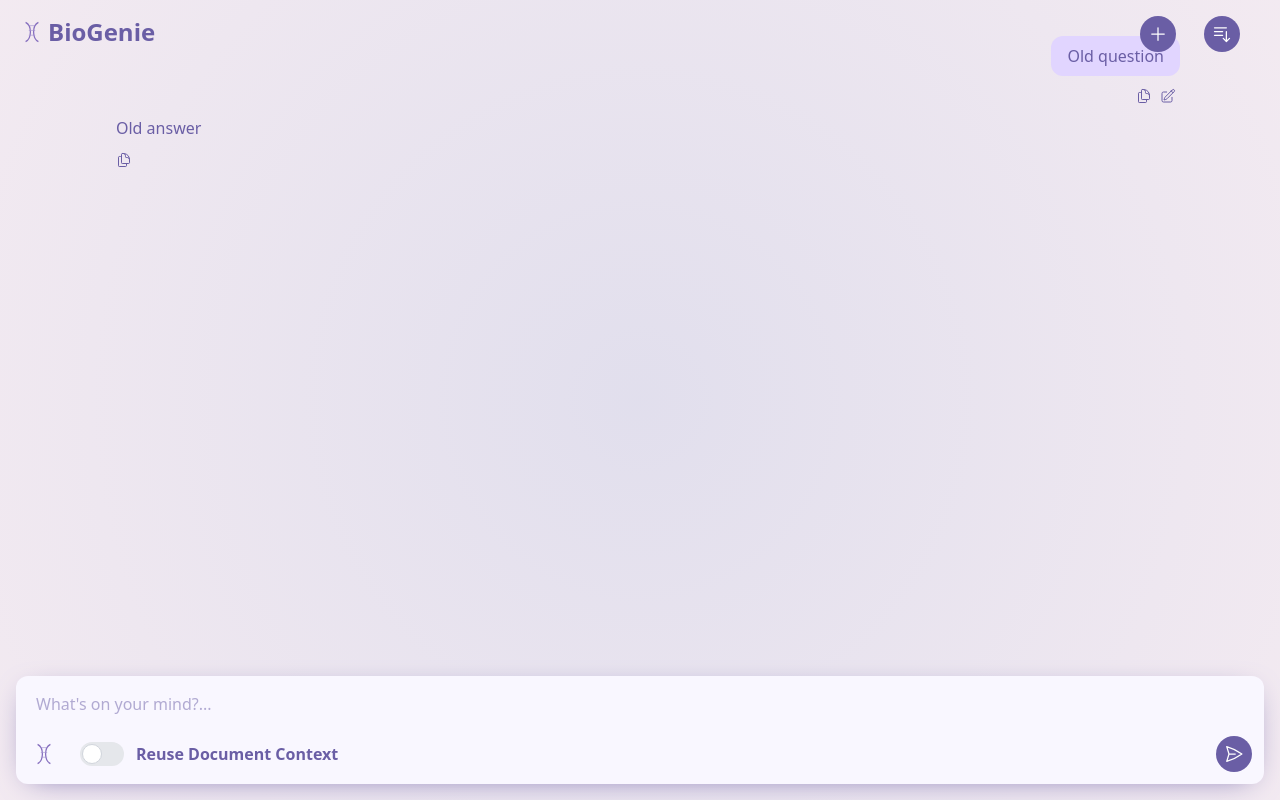
Chat Page › clears state and stops loading when New Chat is clicked
Type "Hello" into the text box with test id "input" at (640, 712), box [28,692,1252,732]
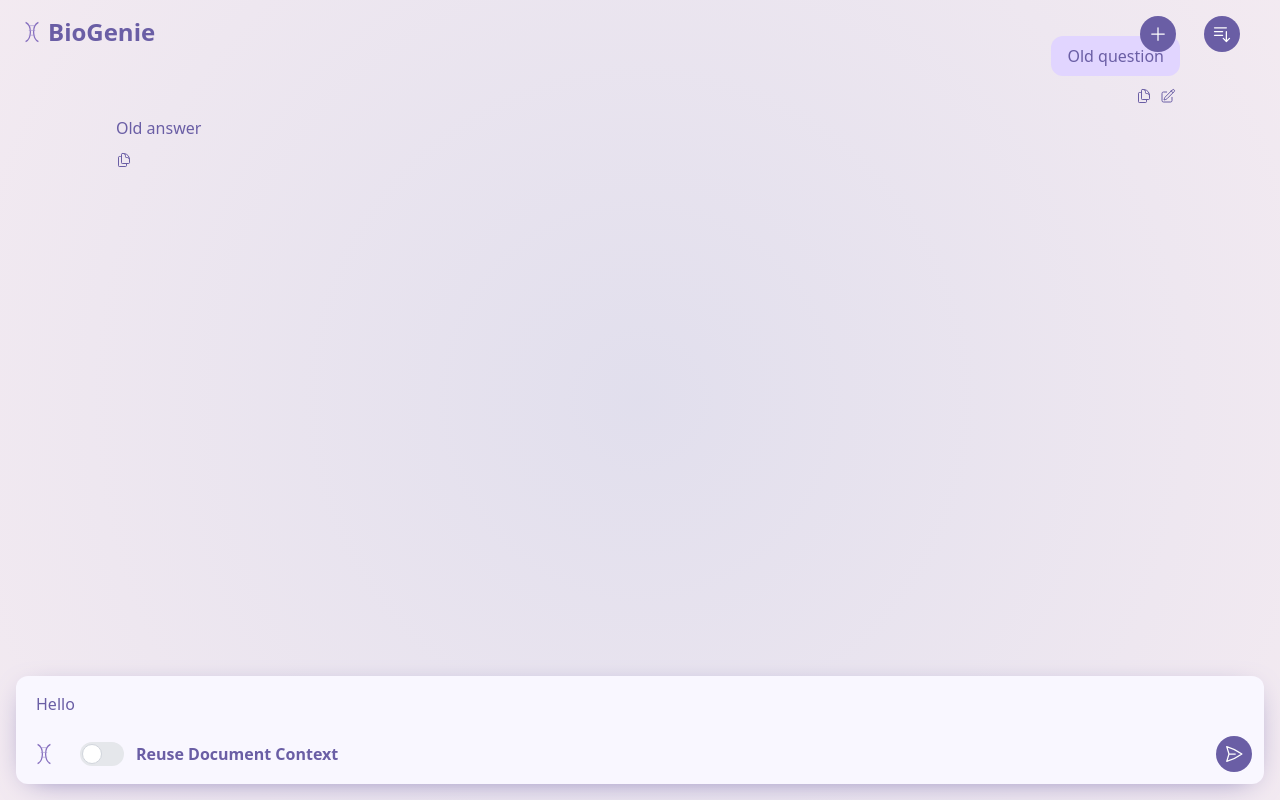
Click the button with test id "submitButton" at (1234, 754), box [1216,736,1252,772]
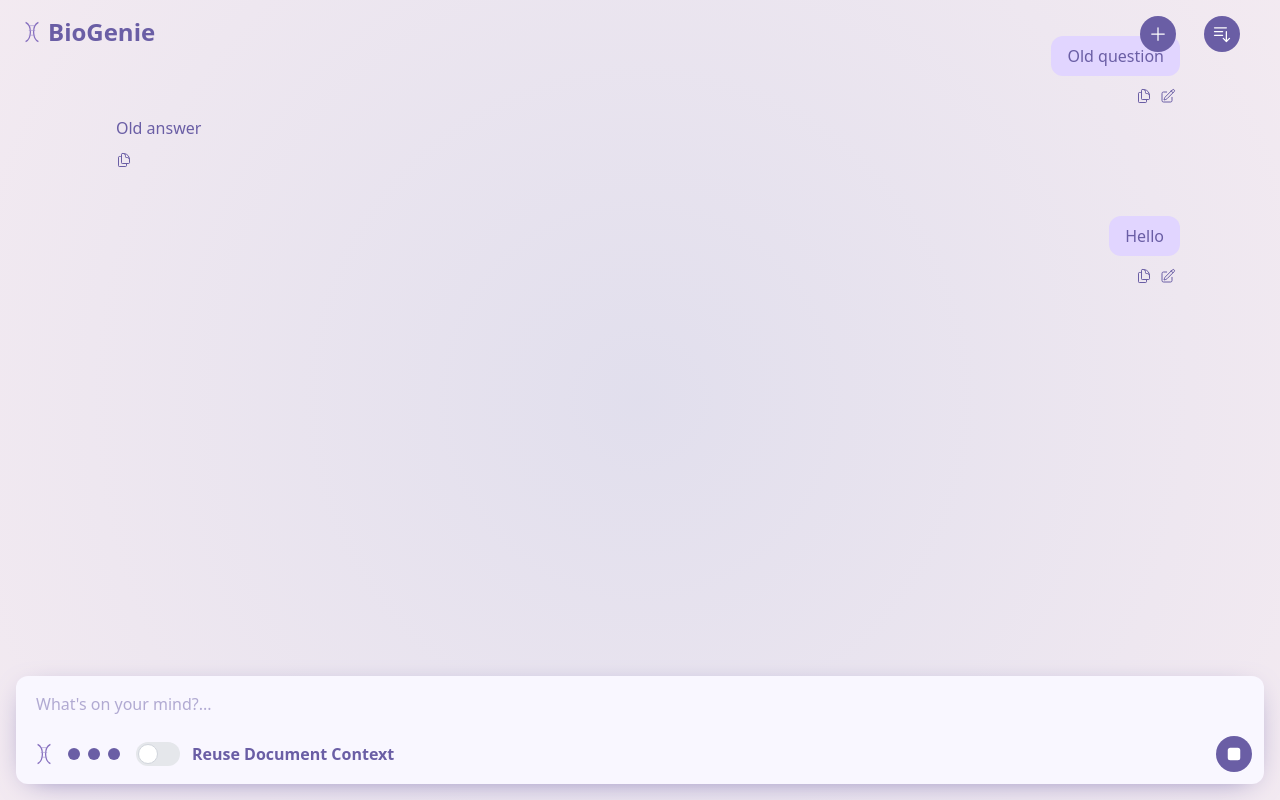
Expected: the element with test id "spinner" is shown, [60,748,120,760]
Note: Click New Chat
Click the button with test id "newChatButton" at (1158, 34), box [1140,16,1176,52]
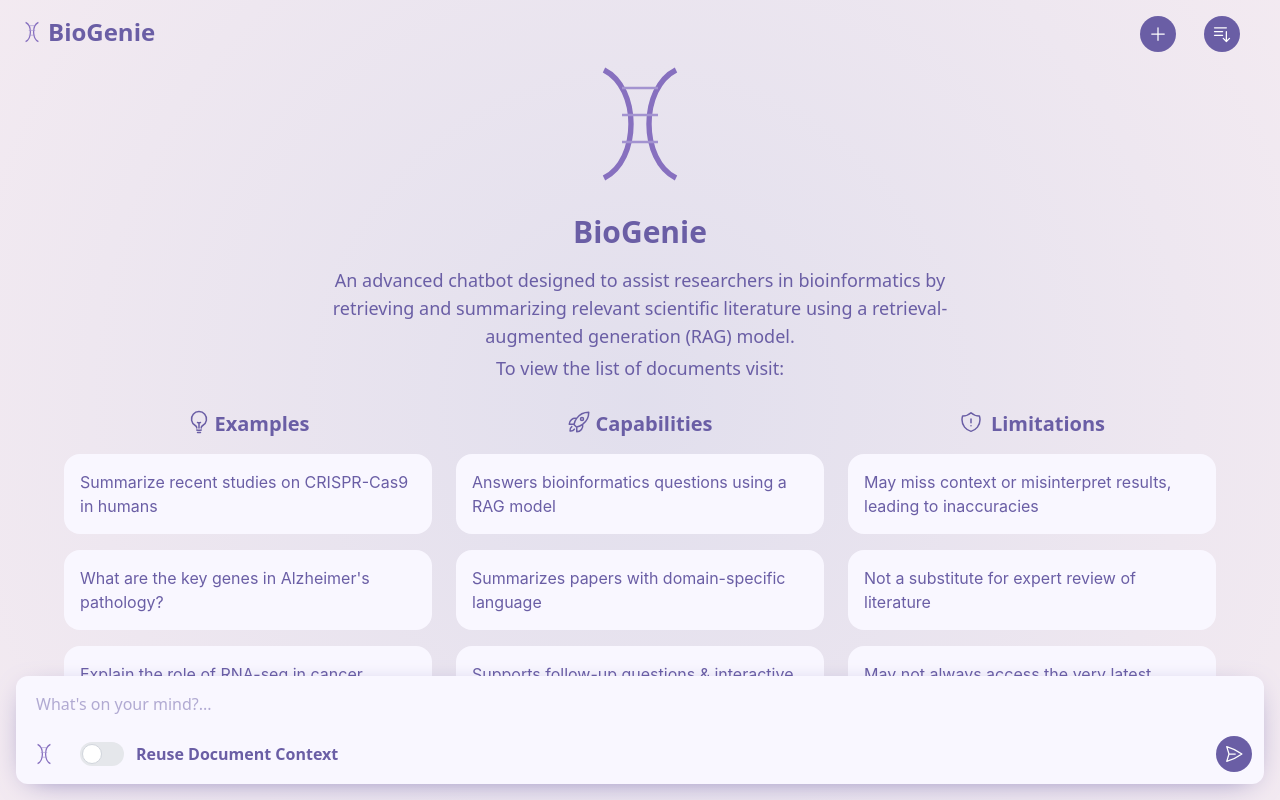
Expected: the text box with test id "input" is empty, [28,692,1252,732]
Expected: the element with test id "spinner" is gone
Expected: the text "Old question" is gone
